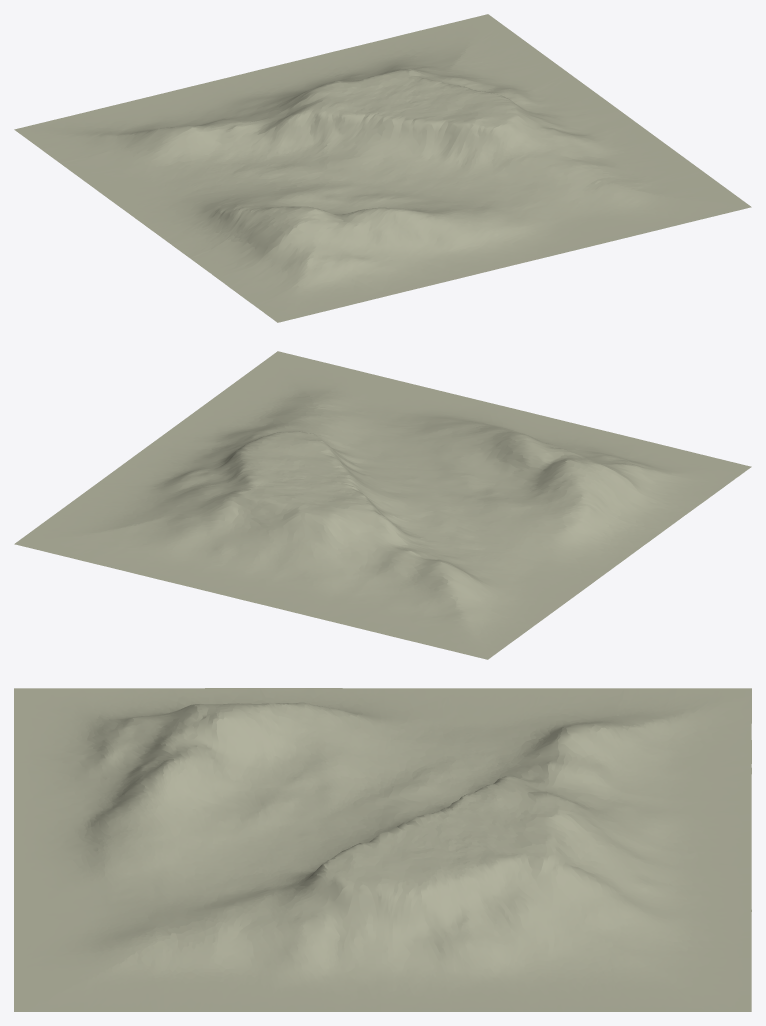
The model's file is island_map_C.fbx.
The picture shows the model from 3 angles, top to bottom: view 1: azimuth 30°, elevation 25°; view 2: azimuth 150°, elevation 25°; view 3: azimuth 270°, elevation 25°; orthographic projection. The views are drawn at different scales.
Visible parts, largest first — view 1: island_map_C; view 2: island_map_C; view 3: island_map_C.
Part boxes in pixels (x1,y1,x2,y2): island_map_C: (14, 14, 751, 322); island_map_C: (14, 351, 751, 659); island_map_C: (14, 688, 751, 1011).
Size of the model in its own units: 21763 by 1599 by 20977.
